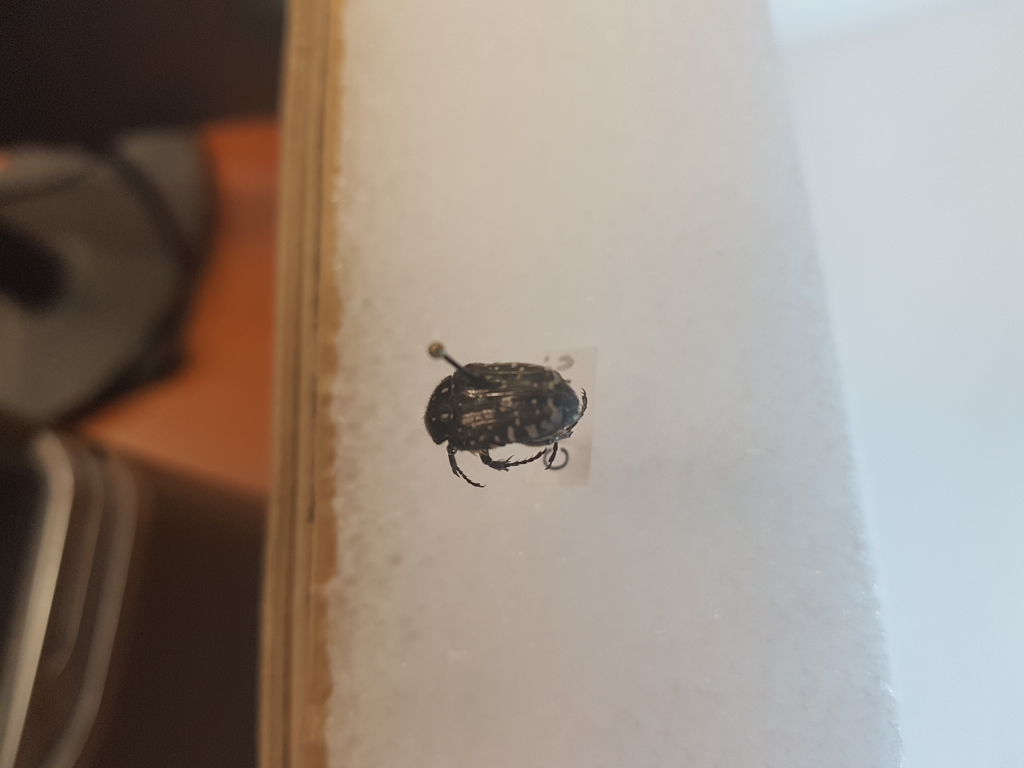Oxythyrea_funesta: (426, 360, 598, 474)
